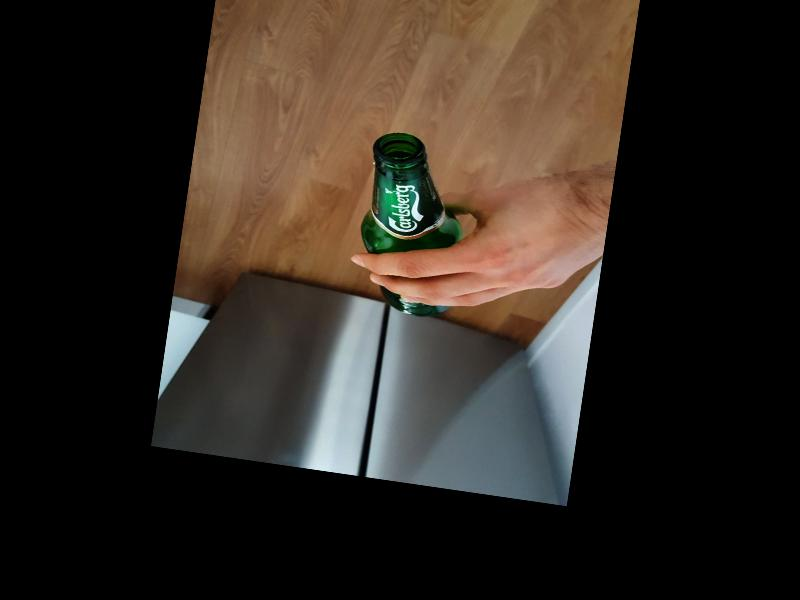Beer: (350, 128, 474, 320)
